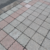others: (1, 3, 37, 50)
